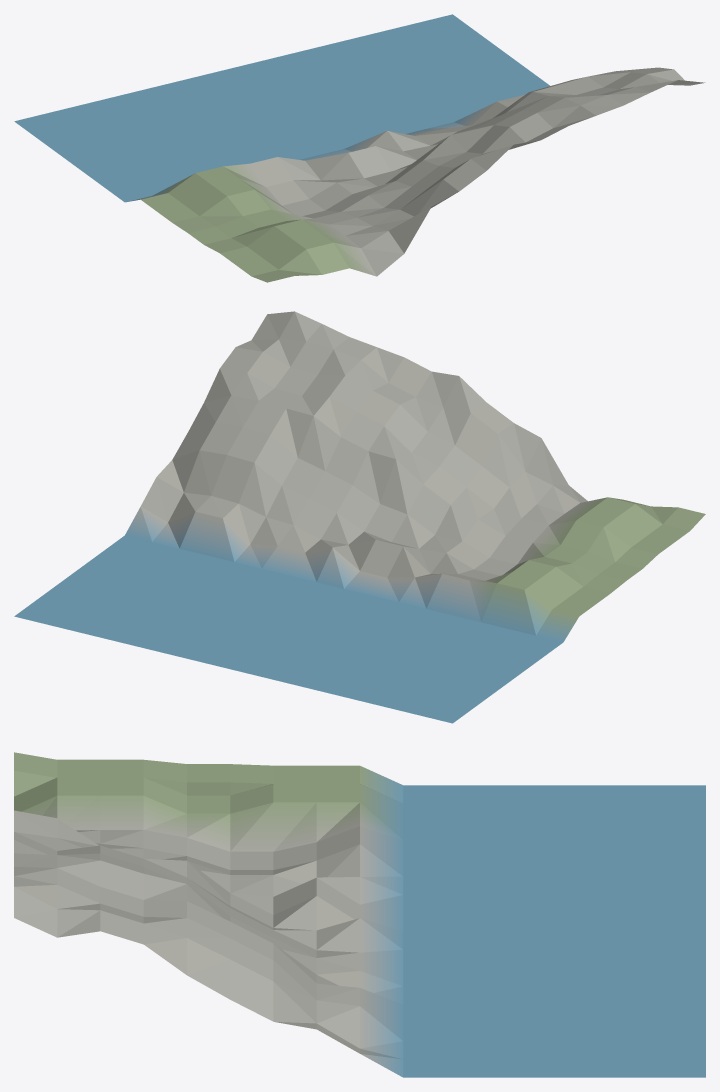
The picture shows the model from 3 angles, top to bottom: view 1: azimuth 30°, elevation 25°; view 2: azimuth 150°, elevation 25°; view 3: azimuth 270°, elevation 25°; orthographic projection. The views are drawn at different scales.
Size of the model in its own units: 32 by 8.81 by 32.
